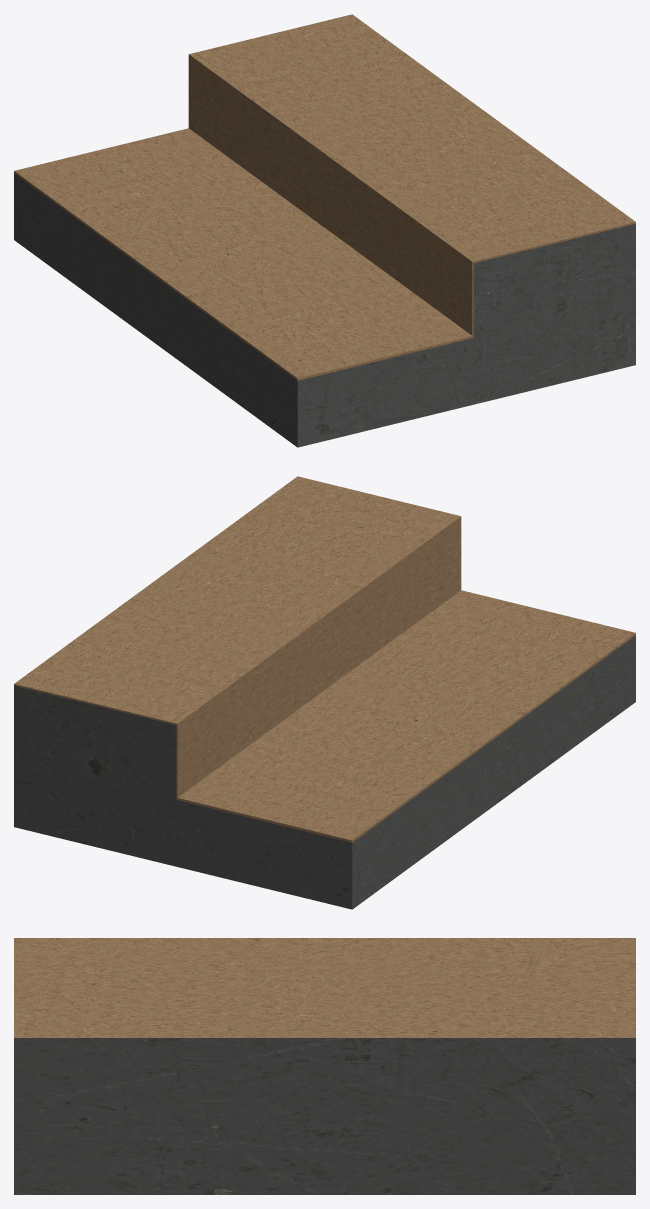
The model's file is SHOP BACK SIDE STAIRS.fbx.
3 renders of one model, top to bottom at view 1: azimuth 30°, elevation 25°; view 2: azimuth 150°, elevation 25°; view 3: azimuth 270°, elevation 25°, orthographic. The views are drawn at different scales.
Parts seen in each view (by area): view 1: pCube1; view 2: pCube1; view 3: pCube1.
Boxes of the visible parts, x1,y1,x2,y2 form: pCube1: (14,14,635,447); pCube1: (14,476,635,909); pCube1: (14,938,635,1194).
Bounding box in the file's own units: 0.6886 × 0.2785 × 1.
Materials: 2 (2 with a texture image).
